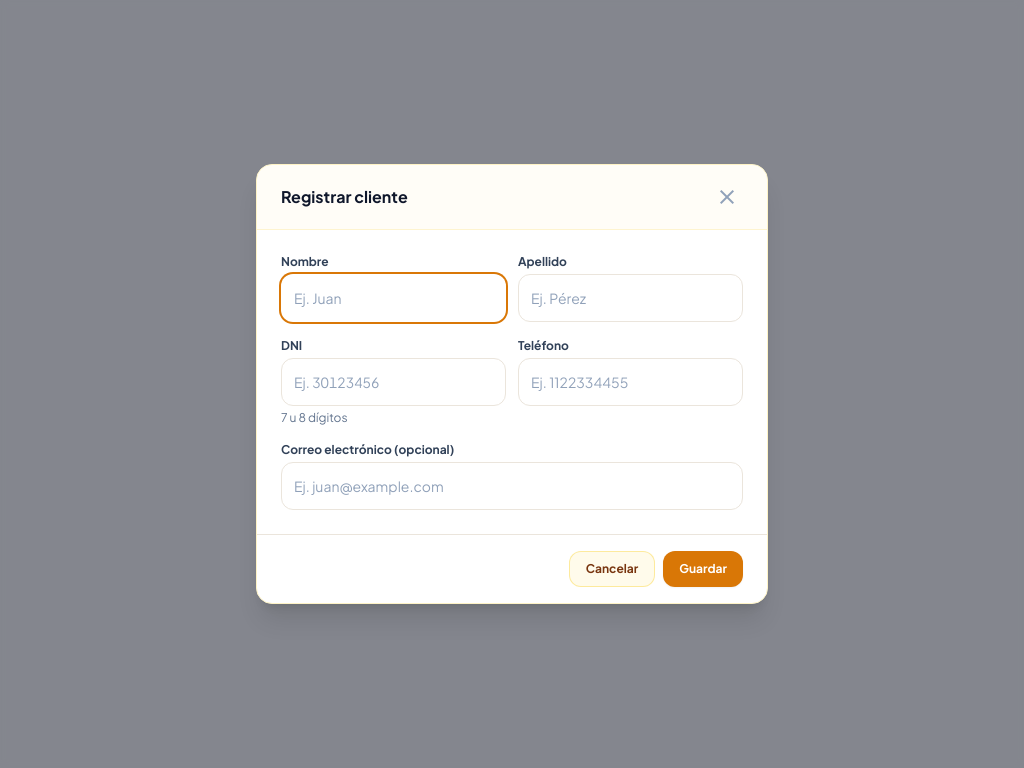
Test: ClienteForm › muestra cada error debajo de su campo y no envía (CA2)
Type "A" into the field labelled "Nombre" at (394, 298), box [281, 274, 506, 322]
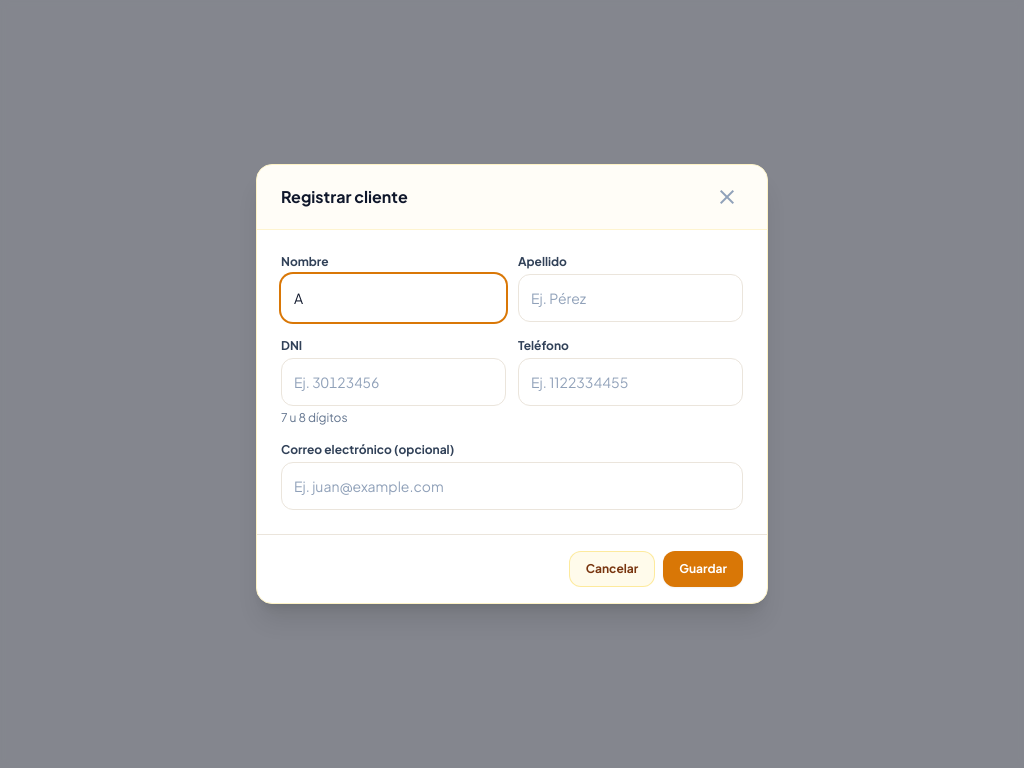
Type "B" into the field labelled "Apellido" at (630, 298), box [518, 274, 743, 322]
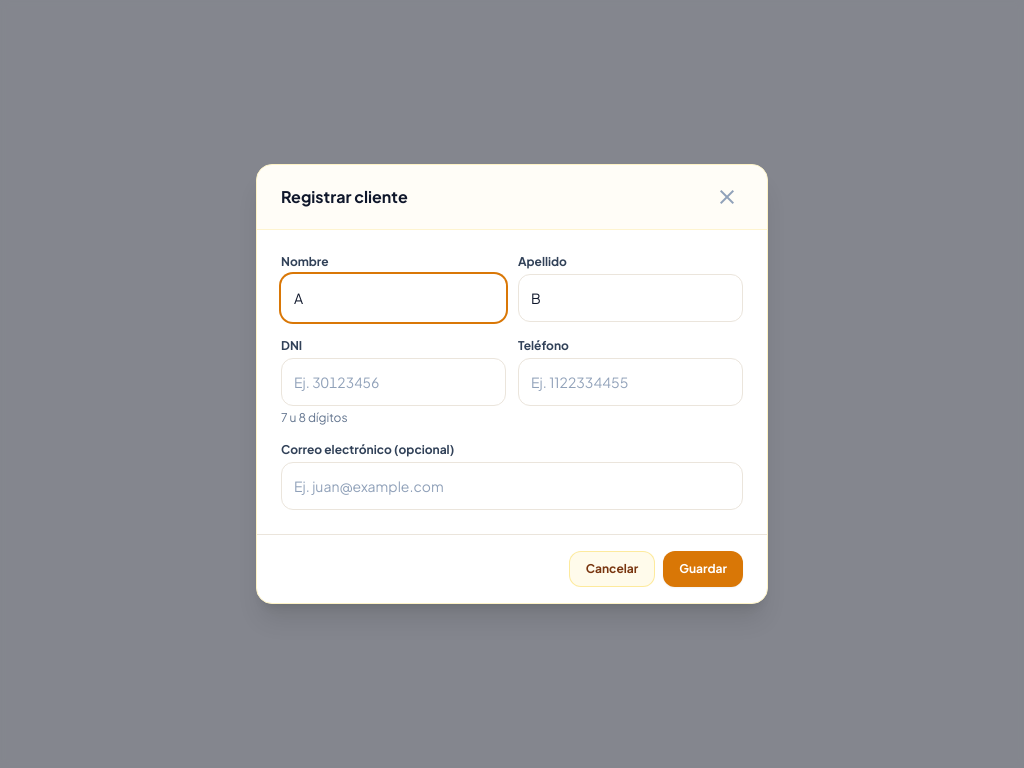
Type "123" into the field labelled "DNI" at (394, 382), box [281, 358, 506, 406]
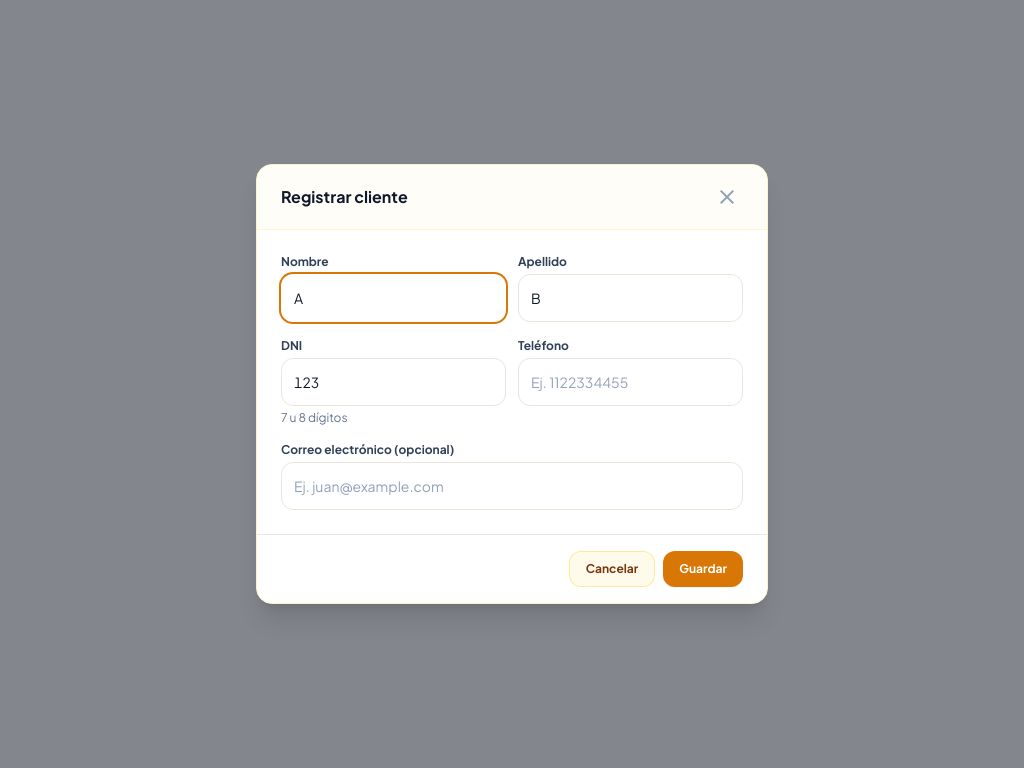
Type "123" into the field labelled "Teléfono" at (630, 382), box [518, 358, 743, 406]
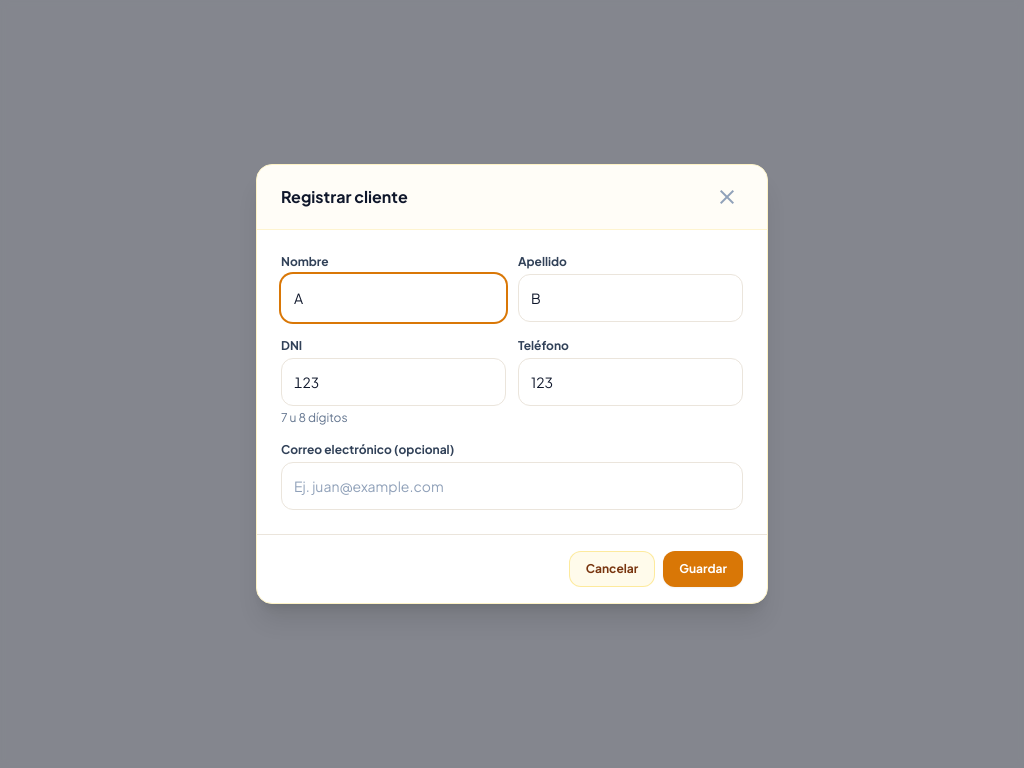
Type "no-es-email" into the field labelled "Correo electrónico (opcional)" at (512, 486), box [281, 462, 743, 510]
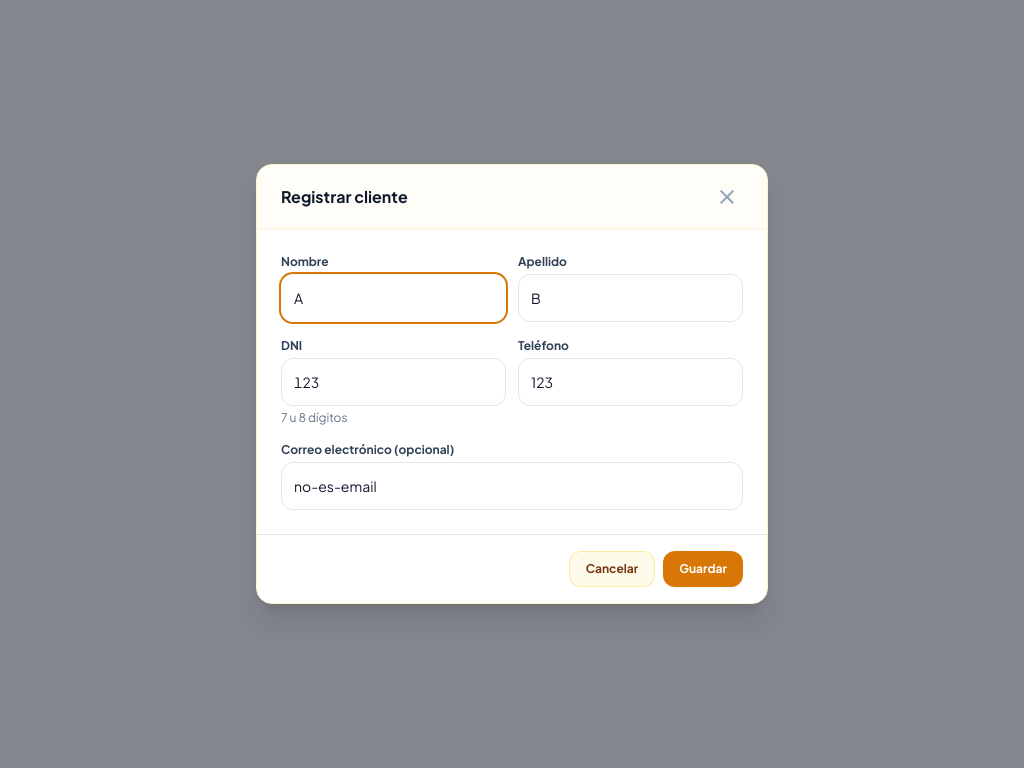
Click the button "Guardar" at (703, 569), box [663, 551, 743, 587]
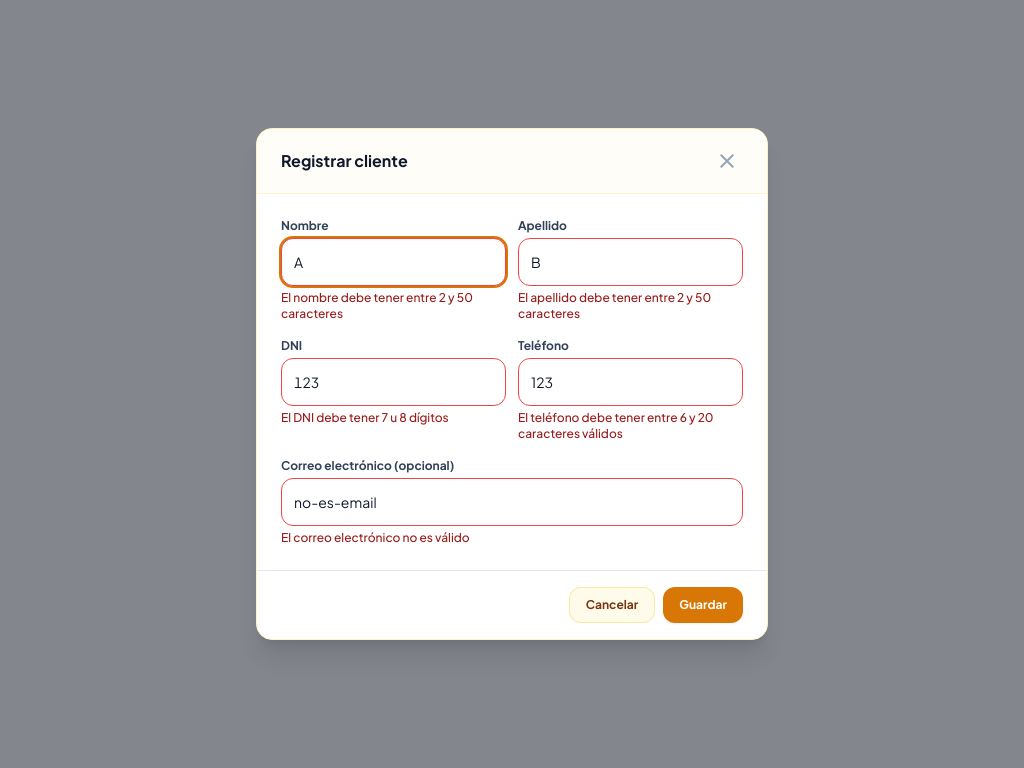
Result: the text "El nombre debe tener entre 2 y 50 caracteres" is shown at [281, 290, 506, 322]
Result: the text "El apellido debe tener entre 2 y 50 caracteres" is shown at [518, 290, 743, 322]
Result: the text "El DNI debe tener 7 u 8 dígitos" is shown at [281, 410, 449, 425]
